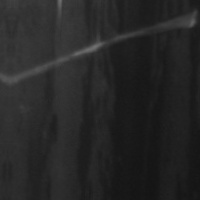scratches: (13, 4, 198, 92)
